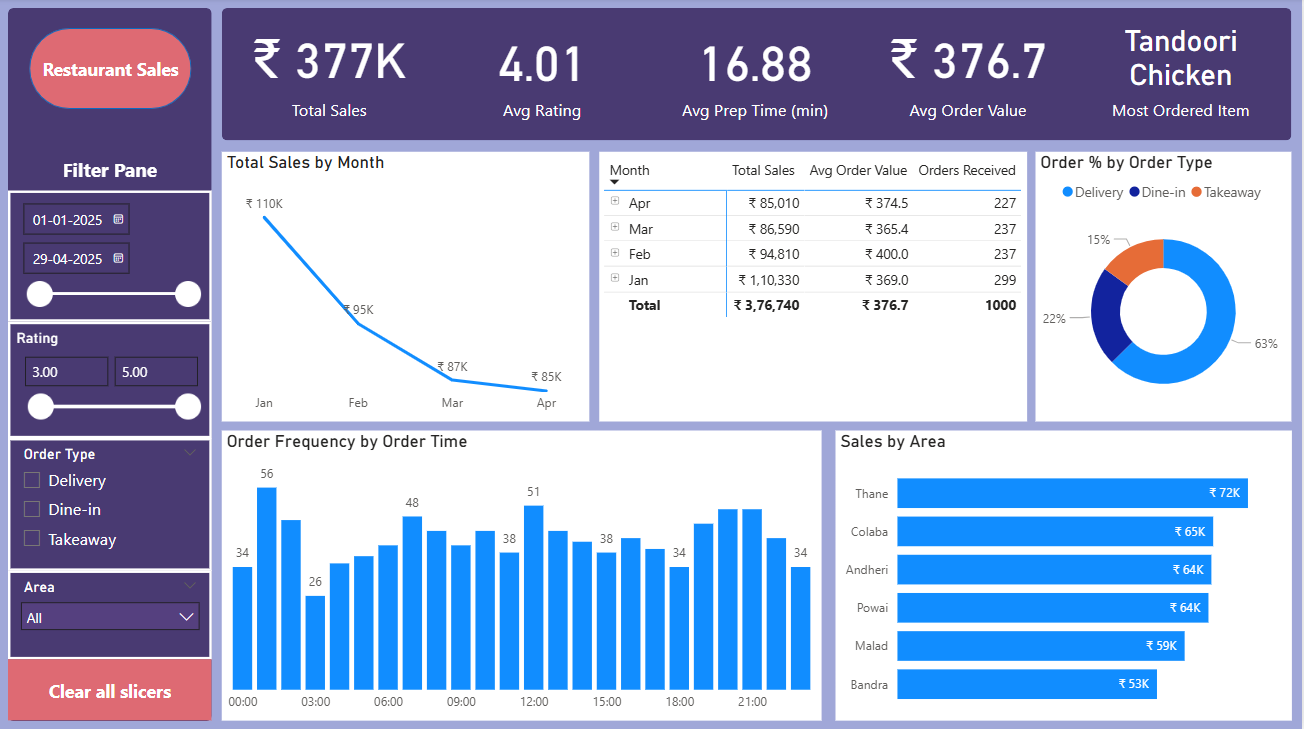

The page's visual inventory and layout, read from the dashboard file:
{"tool":"powerbi","page":{"name":"Dashboard 1.0","canvas":[1280,720],"ordinal":0},"visuals":[{"type":"shape","box":[10,10,200,700],"z":0},{"type":"shape","box":[30.7,30,159.5,79.8],"z":1000},{"type":"shape","box":[220,10,1050,130],"z":2000},{"type":"cardVisual","fields":{"Data":["_measures.Total Sales","_measures.Avg Rating","_measures.Avg Prep Time","_measures.Avg Order Value","_measures.Most Ordered Item"]},"box":[219.6,9.8,1050.3,130.1],"z":3000},{"type":"slicer","fields":{"Values":["Dim Date.Date"]},"box":[9.8,189,200,128.8],"z":4000},{"type":"slicer","fields":{"Values":["orders.Order_Type"]},"box":[9.8,431.9,200,130.1],"z":5000},{"type":"slicer","fields":{"Values":["orders.Area"]},"box":[9.8,562,200,87.1],"z":6000},{"type":"slicer","title":"Rating","fields":{"Values":["orders.Rating"]},"box":[9.8,317.8,200,114.1],"z":7000},{"type":"lineChart","title":"Total Sales by Month","fields":{"Category":["Dim Date.Month"],"Y":["_measures.Total Sales"]},"box":[219.6,150.9,360.7,265],"z":8000},{"type":"columnChart","title":"Order Frequency by Order Time","fields":{"Y":["_measures.Order Frequency"],"Category":["orders.Order_Time"]},"box":[219.6,424.5,589,284.7],"z":9000},{"type":"barChart","fields":{"Category":["orders.Area","Items.Item_Name"],"Y":["_measures.Total Sales"]},"box":[822.1,424.5,447.9,284.7],"z":10000},{"type":"pivotTable","fields":{"Rows":["Dim Date.Month","Items.Item_Name"],"Values":["_measures.Total Sales","_measures.Avg Order Value","_measures.Orders Received"]},"box":[590.2,150.9,419.6,265],"z":11000},{"type":"donutChart","title":"Order % by Order Type","fields":{"Category":["orders.Order_Type"],"Y":["_measures.Order Frequency"]},"box":[1018.4,150.9,251.5,265],"z":12000},{"type":"textbox","box":[9.8,150.9,200,38],"z":13000},{"type":"actionButton","box":[9.8,649.1,200,60.1],"z":14000}]}

Visuals, with their boxes in screenshot pixels (x1, y1, x2, y2), scaled from the page's 1280x720 canvas onto the 1304x729 screenshot:
shape: box=[10, 10, 214, 719]
shape: box=[31, 30, 194, 111]
shape: box=[224, 10, 1294, 142]
cardVisual - _measures.Total Sales x _measures.Avg Rating: box=[224, 10, 1294, 142]
slicer - Dim Date.Date: box=[10, 191, 214, 322]
slicer - orders.Order_Type: box=[10, 437, 214, 569]
slicer - orders.Area: box=[10, 569, 214, 657]
"Rating" slicer: box=[10, 322, 214, 437]
"Total Sales by Month" lineChart: box=[224, 153, 591, 421]
"Order Frequency by Order Time" columnChart: box=[224, 430, 824, 718]
barChart - orders.Area x Items.Item_Name: box=[838, 430, 1294, 718]
pivotTable - Dim Date.Month x Items.Item_Name: box=[601, 153, 1029, 421]
"Order % by Order Type" donutChart: box=[1037, 153, 1294, 421]
textbox: box=[10, 153, 214, 191]
actionButton: box=[10, 657, 214, 718]
